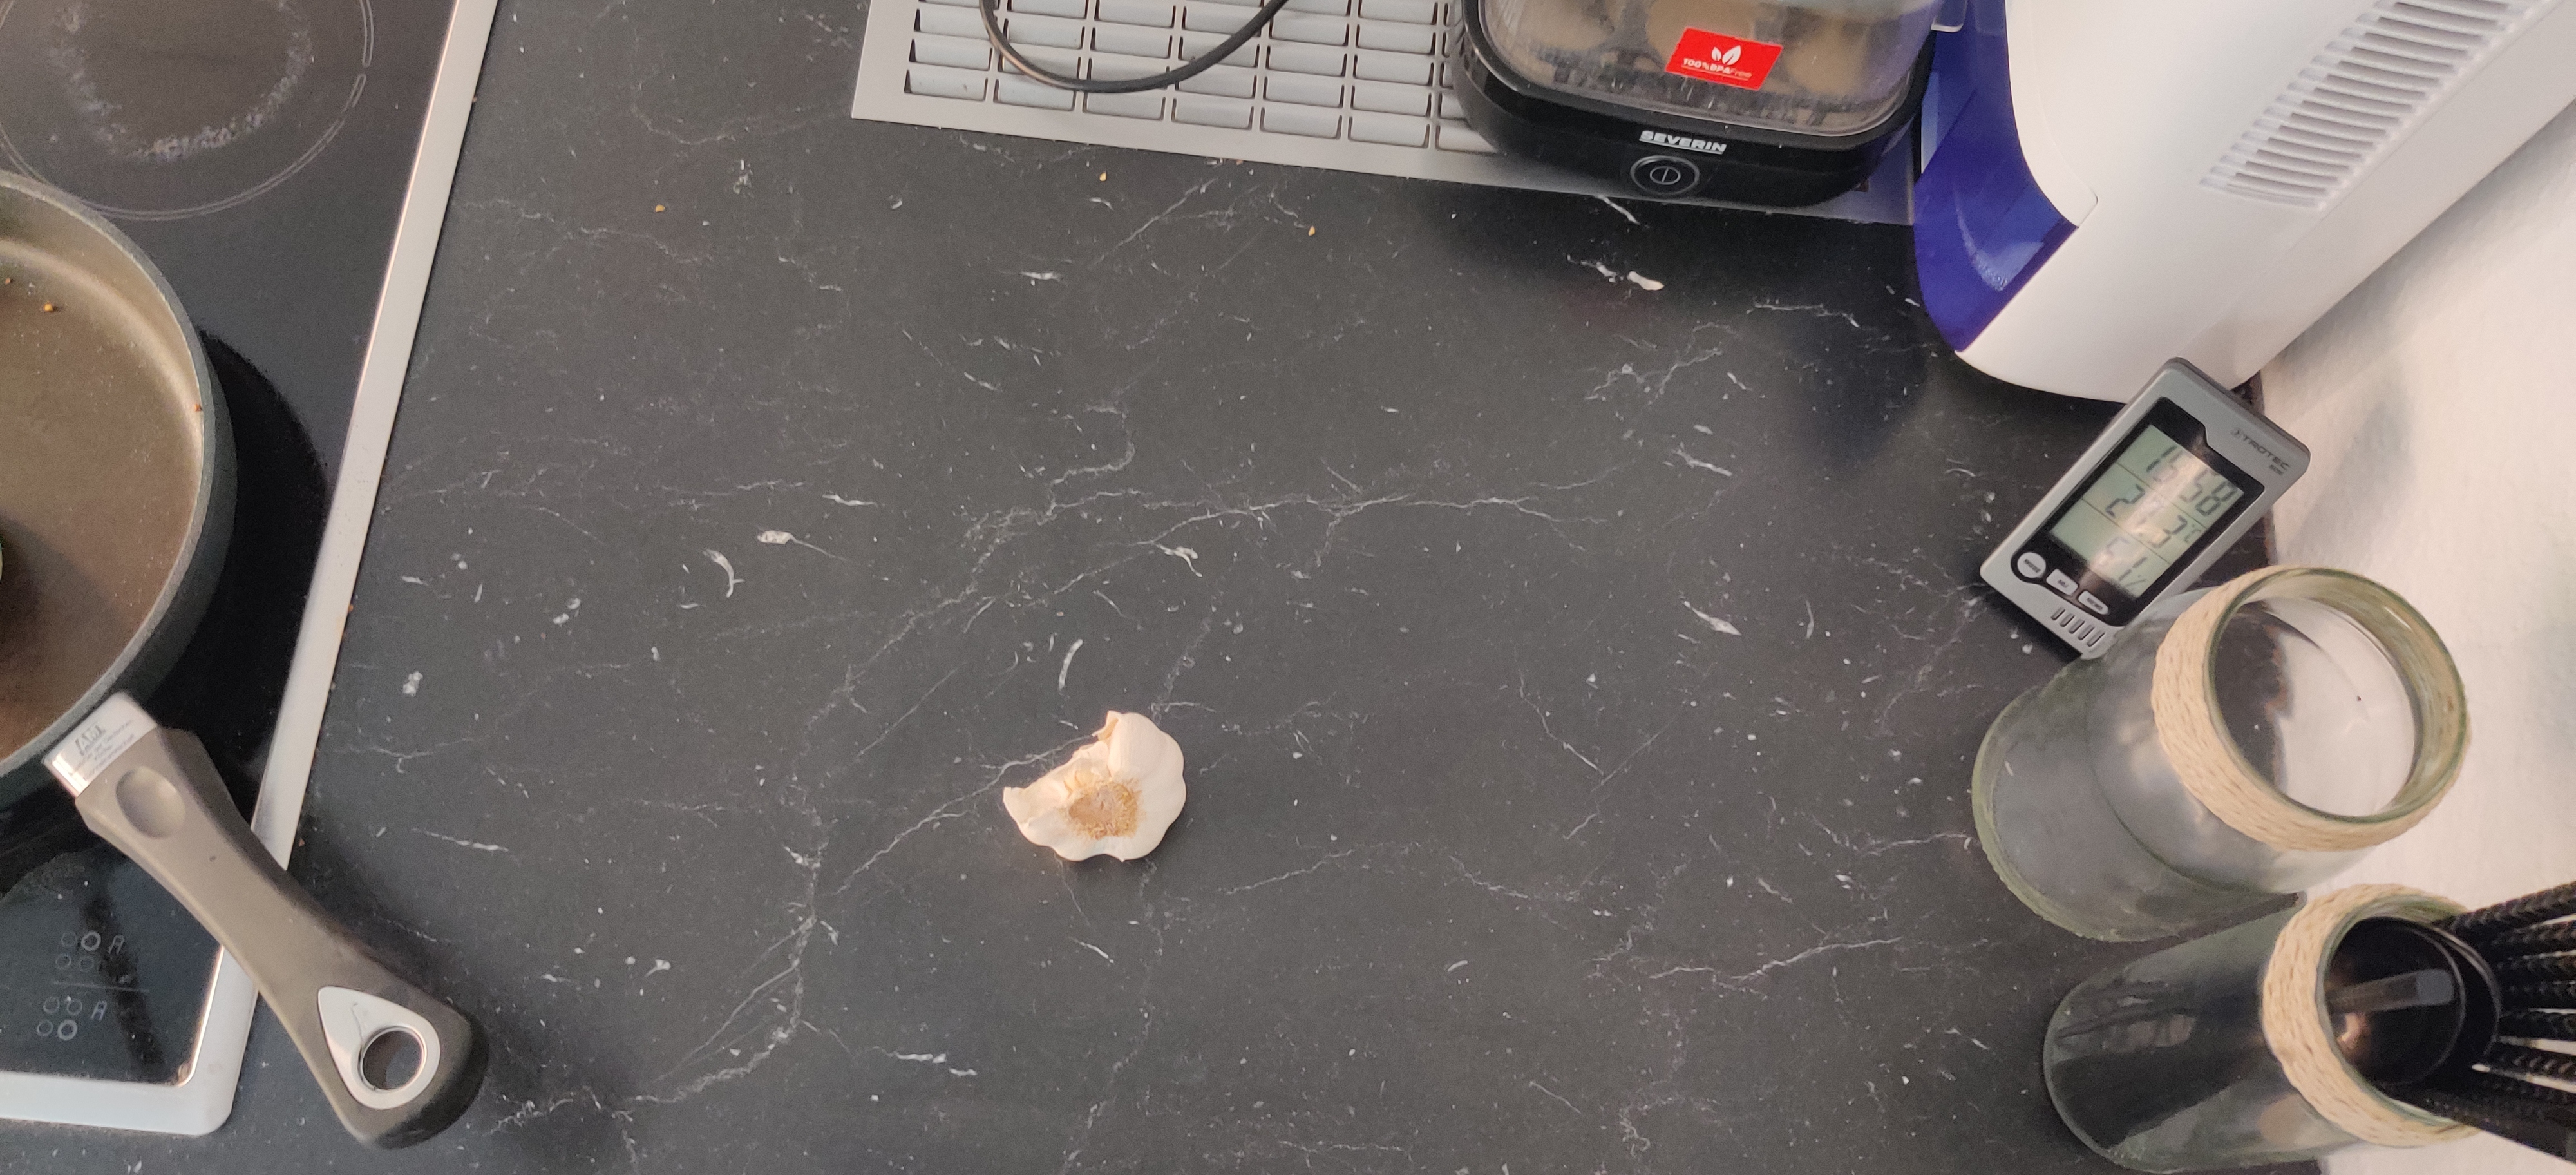Knoblauch: (1004, 707, 1188, 864)
